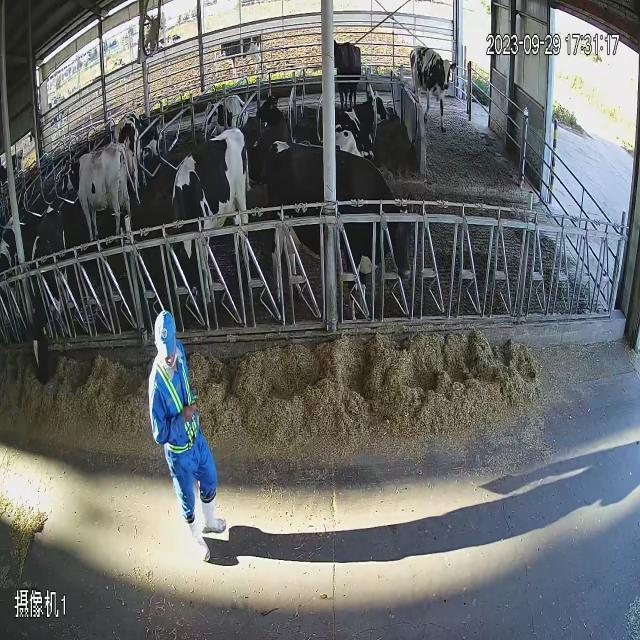feeding: (26, 194, 72, 393)
lying down: (325, 91, 397, 158)
standing: (266, 136, 416, 318), (167, 125, 256, 328), (55, 138, 138, 252), (409, 38, 457, 134)
